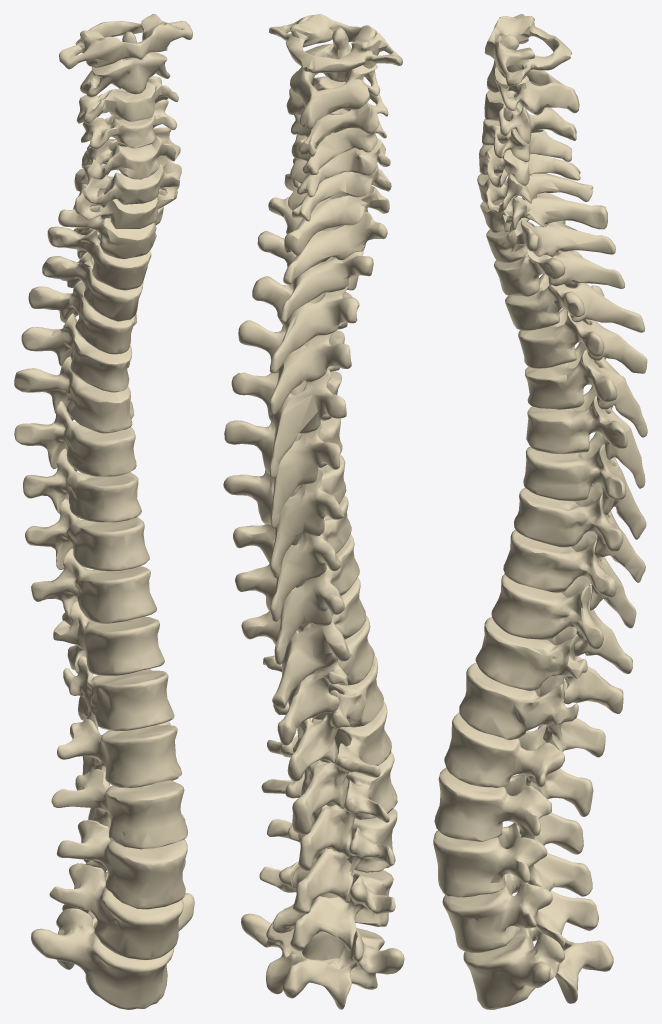
Rendered from spine.glb.
3 views of the same model, side by side, from view 1: azimuth 30°, elevation 25°; view 2: azimuth 150°, elevation 25°; view 3: azimuth 270°, elevation 25° (orthographic).
Parts seen in each view (by area): view 1: fifth lumbar vertebra, second lumbar vertebra, third lumbar vertebra, fourth lumbar vertebra, first lumbar vertebra, twelfth thoracic vertebra, tenth thoracic vertebra, eleventh thoracic vertebra, ninth thoracic vertebra, seventh thoracic vertebra, eighth thoracic vertebra, sixth thoracic vertebra (+12 smaller); view 2: fifth lumbar vertebra, fourth lumbar vertebra, first lumbar vertebra, third lumbar vertebra, second lumbar vertebra, seventh thoracic vertebra, tenth thoracic vertebra, ninth thoracic vertebra, sixth thoracic vertebra, fifth thoracic vertebra, eighth thoracic vertebra, twelfth thoracic vertebra (+12 smaller); view 3: third lumbar vertebra, fifth lumbar vertebra, second lumbar vertebra, first lumbar vertebra, fourth lumbar vertebra, twelfth thoracic vertebra, eleventh thoracic vertebra, tenth thoracic vertebra, ninth thoracic vertebra, seventh thoracic vertebra, eighth thoracic vertebra, sixth thoracic vertebra (+12 smaller).
Part boxes in pixels (left/top/right/bottom): fifth lumbar vertebra: left=31, top=893, right=194, bottom=1009; second lumbar vertebra: left=51, top=769, right=187, bottom=849; third lumbar vertebra: left=56, top=814, right=187, bottom=909; fourth lumbar vertebra: left=49, top=859, right=185, bottom=960; first lumbar vertebra: left=57, top=719, right=181, bottom=787; twelfth thoracic vertebra: left=63, top=656, right=174, bottom=731; tenth thoracic vertebra: left=31, top=548, right=156, bottom=625; eleventh thoracic vertebra: left=53, top=601, right=164, bottom=675; ninth thoracic vertebra: left=25, top=499, right=149, bottom=571; seventh thoracic vertebra: left=14, top=400, right=136, bottom=476; eighth thoracic vertebra: left=23, top=448, right=141, bottom=522; sixth thoracic vertebra: left=14, top=356, right=132, bottom=433; fifth lumbar vertebra: left=241, top=913, right=404, bottom=1009; fourth lumbar vertebra: left=259, top=861, right=395, bottom=951; first lumbar vertebra: left=267, top=701, right=391, bottom=835; third lumbar vertebra: left=267, top=808, right=397, bottom=914; second lumbar vertebra: left=261, top=751, right=397, bottom=870; seventh thoracic vertebra: left=223, top=454, right=346, bottom=578; tenth thoracic vertebra: left=241, top=577, right=366, bottom=708; ninth thoracic vertebra: left=235, top=534, right=359, bottom=664; sixth thoracic vertebra: left=224, top=417, right=342, bottom=528; fifth thoracic vertebra: left=231, top=368, right=346, bottom=478; eighth thoracic vertebra: left=233, top=495, right=351, bottom=621; twelfth thoracic vertebra: left=273, top=655, right=383, bottom=781; third lumbar vertebra: left=433, top=823, right=592, bottom=897; fifth lumbar vertebra: left=463, top=927, right=613, bottom=1009; second lumbar vertebra: left=434, top=767, right=583, bottom=854; first lumbar vertebra: left=444, top=712, right=593, bottom=816; fourth lumbar vertebra: left=442, top=873, right=598, bottom=952; twelfth thoracic vertebra: left=459, top=663, right=605, bottom=757; eleventh thoracic vertebra: left=475, top=617, right=623, bottom=713; tenth thoracic vertebra: left=491, top=573, right=632, bottom=673; ninth thoracic vertebra: left=503, top=529, right=636, bottom=628; seventh thoracic vertebra: left=523, top=432, right=646, bottom=539; eighth thoracic vertebra: left=514, top=482, right=645, bottom=582; sixth thoracic vertebra: left=526, top=375, right=645, bottom=488.
Bounding box in the file's own units: 0.1006 × 0.5768 × 0.1154.
